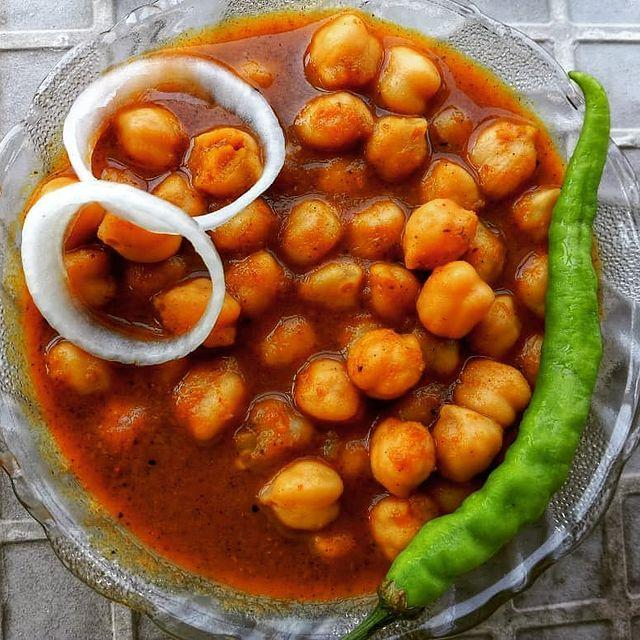Chole: (228, 8, 536, 514)
